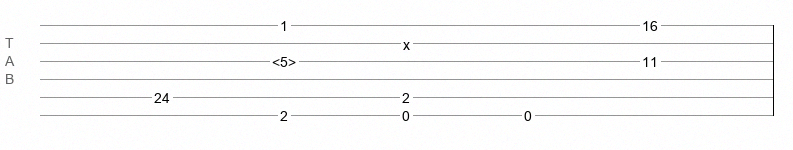0: (402, 108, 410, 118), (524, 108, 532, 118)
1: (280, 18, 288, 28)
11: (642, 54, 658, 64)
16: (642, 18, 658, 28)
2: (280, 108, 288, 118), (402, 90, 410, 100)
24: (154, 90, 170, 100)
harmonic: (272, 54, 296, 64)
x: (403, 37, 410, 45)
